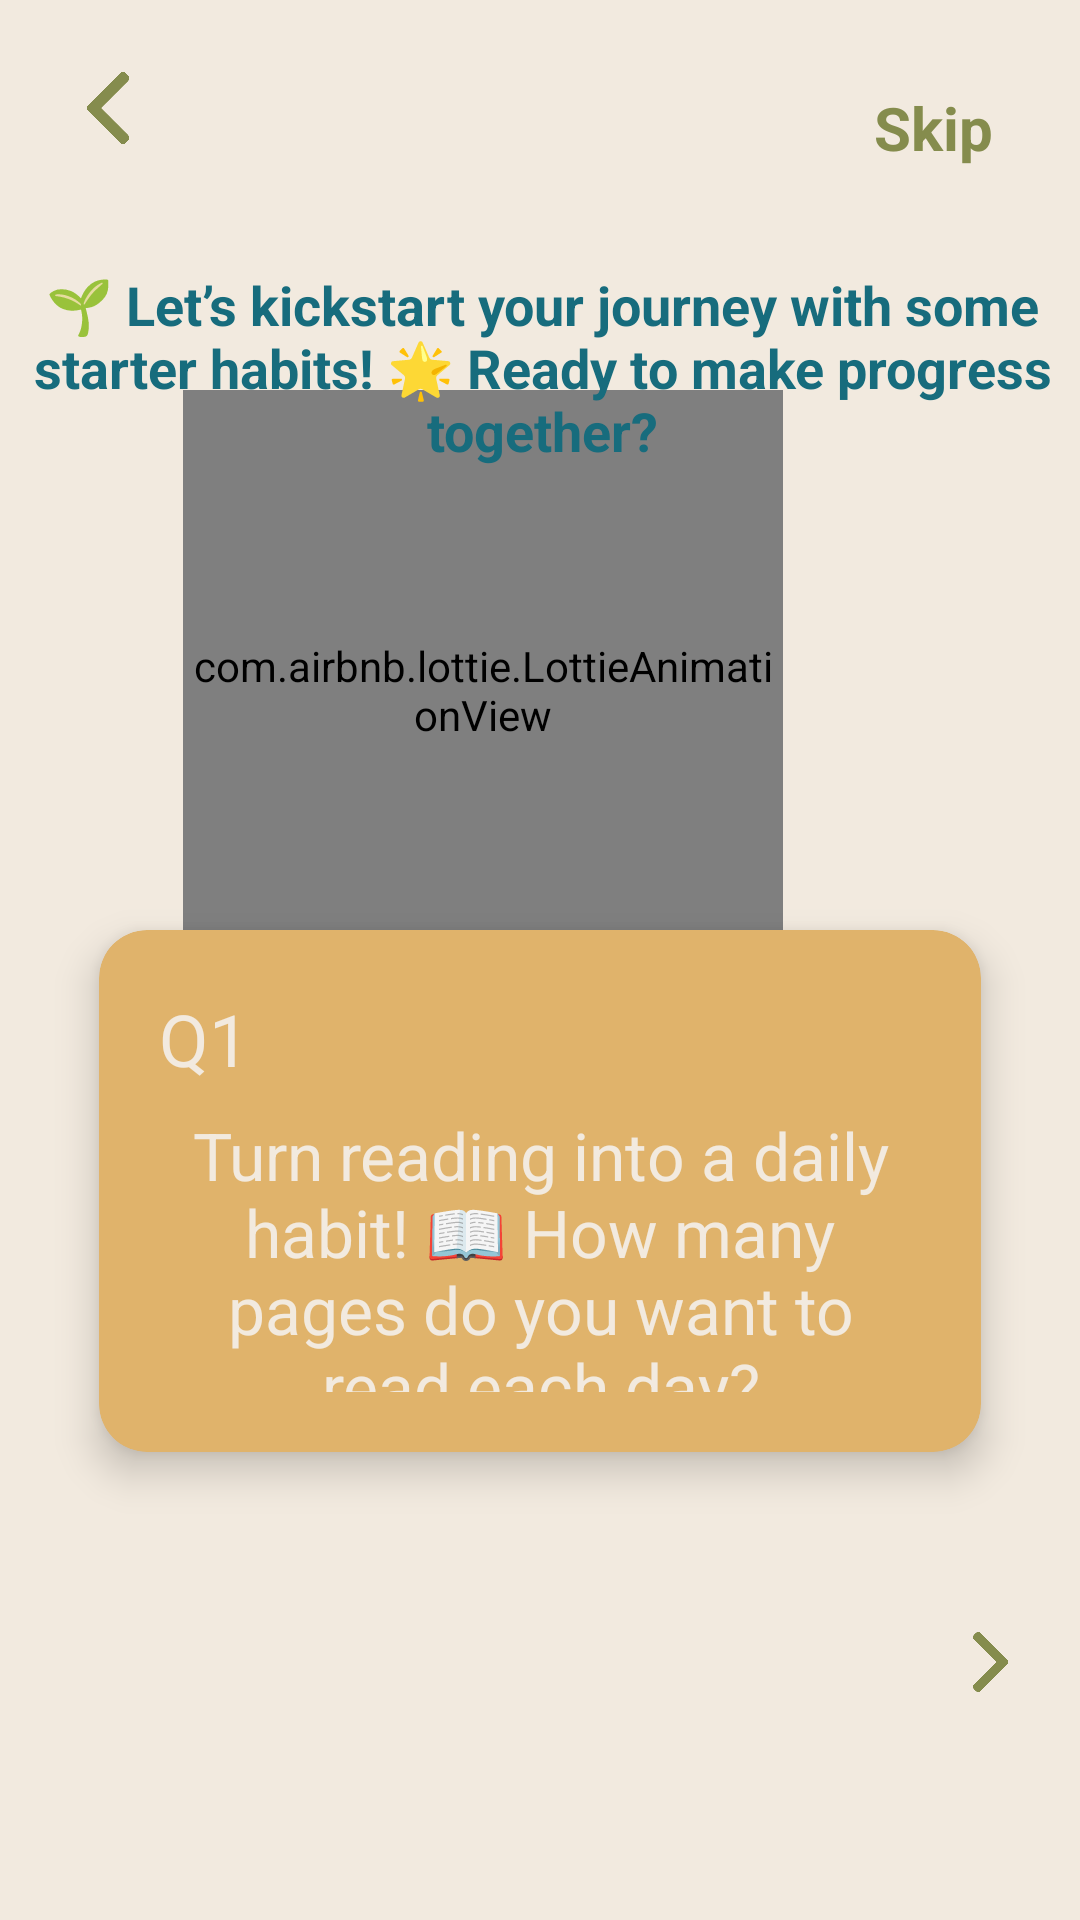

Screen size 1080 x 1920. Icon name, then its box in pixels as (x1, y1, x2, y2):
back arrow: (87, 72, 129, 144)
Continue: (973, 1632, 1008, 1692)
